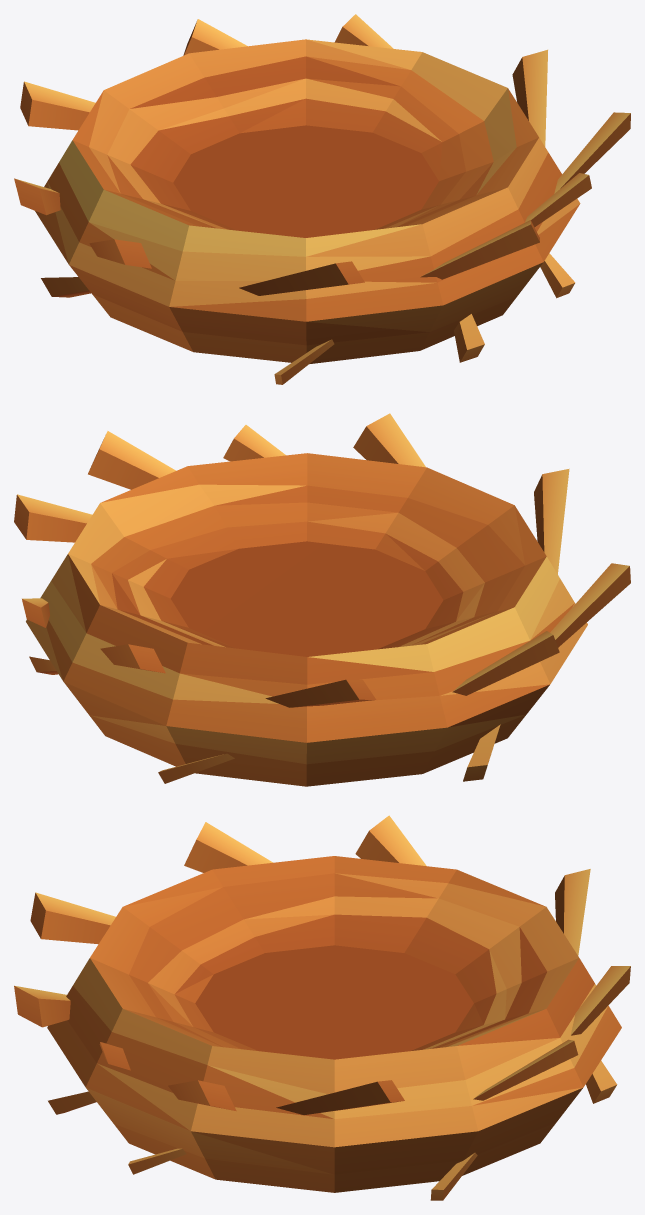
Rendered from nest.glb.
3 renders of one model, top to bottom at view 1: azimuth 30°, elevation 25°; view 2: azimuth 150°, elevation 25°; view 3: azimuth 270°, elevation 25°, orthographic. The views are drawn at different scales.
Parts seen in each view (by area): view 1: nest; view 2: nest; view 3: nest.
Boxes of the visible parts, box(x1,y1,x2,y2) form: nest: box(14, 14, 630, 384); nest: box(14, 413, 630, 786); nest: box(14, 815, 630, 1200).
Size of the model in its own units: 1.21 by 0.4264 by 1.16.
1 material, 1 textured.
